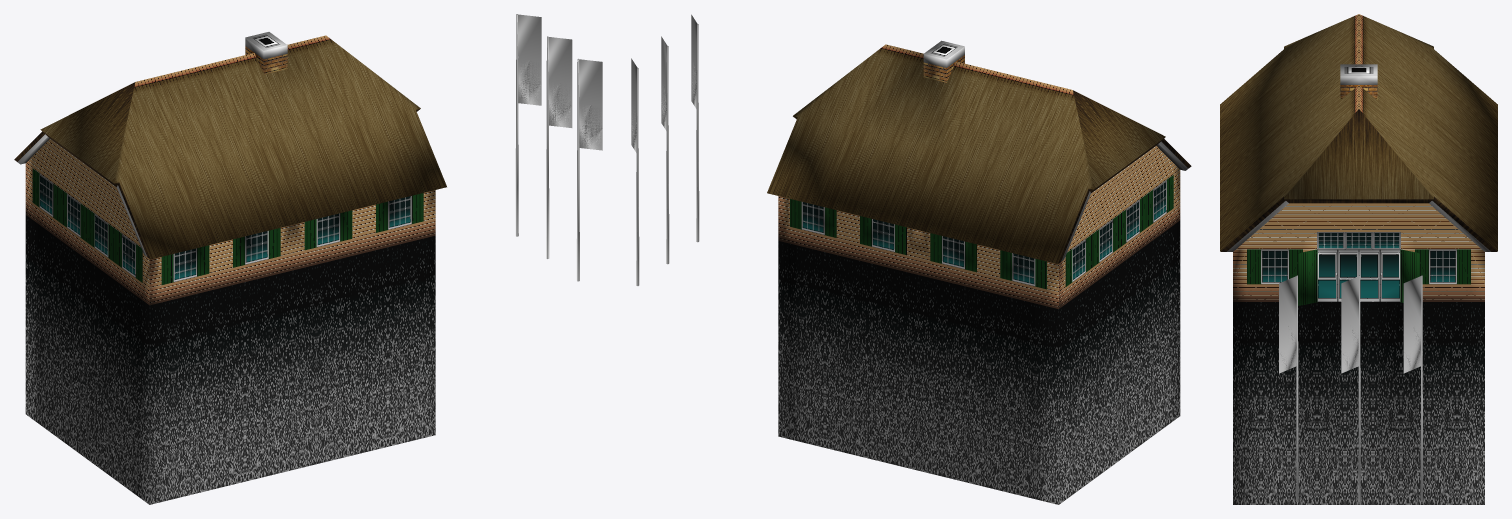
Rendered from bezoekerscentrum_mod1_1a.fbx.
The picture shows the model from 3 angles, left to right: view 1: azimuth 30°, elevation 25°; view 2: azimuth 150°, elevation 25°; view 3: azimuth 270°, elevation 25°; orthographic projection. The views are drawn at different scales.
Visible parts, largest first — view 1: bezoekerscentrum_mod1_1a; view 2: bezoekerscentrum_mod1_1a; view 3: bezoekerscentrum_mod1_1a.
Part boxes in pixels (x1,y1,x2,y2): bezoekerscentrum_mod1_1a: (14, 14, 602, 504); bezoekerscentrum_mod1_1a: (631, 14, 1191, 504); bezoekerscentrum_mod1_1a: (1220, 14, 1497, 504).
Bounding box in the file's own units: 2296 × 1690 × 1115.
